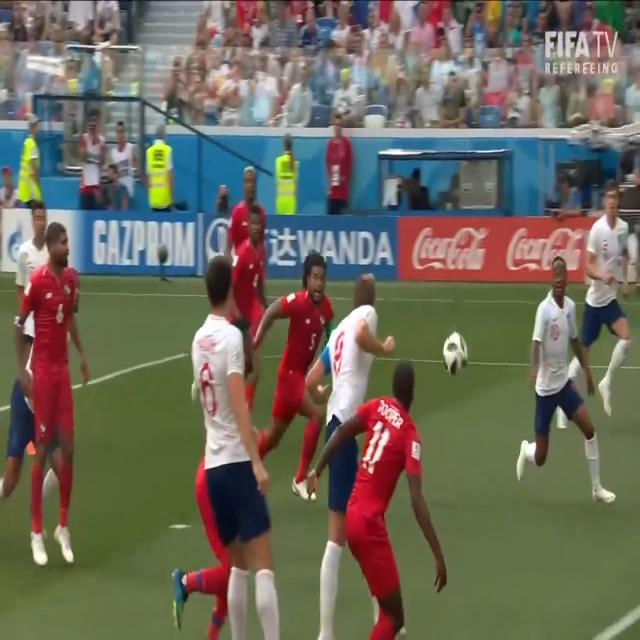ball: (442, 325, 472, 382)
player: (306, 360, 448, 640), (190, 260, 278, 640), (307, 274, 396, 640), (169, 313, 257, 640), (514, 253, 617, 508), (34, 228, 93, 568), (257, 254, 334, 500), (0, 262, 58, 506), (586, 172, 632, 418), (232, 211, 267, 348), (227, 160, 265, 216), (18, 200, 46, 268)
